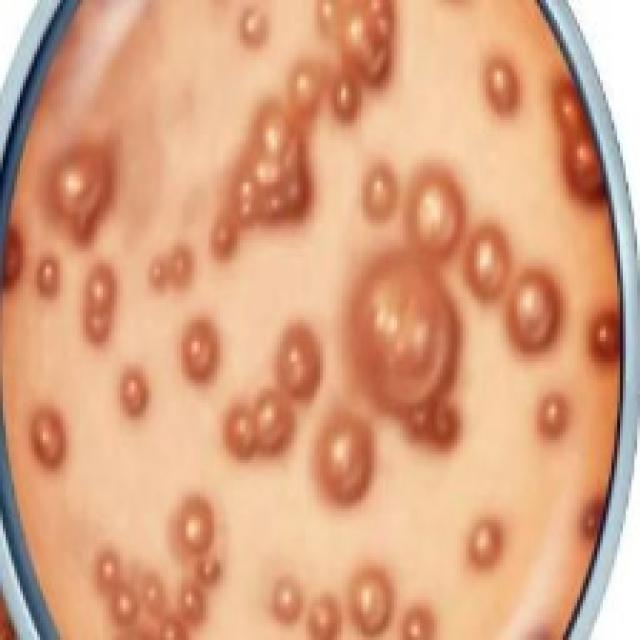Eczema: (14, 0, 616, 640)
